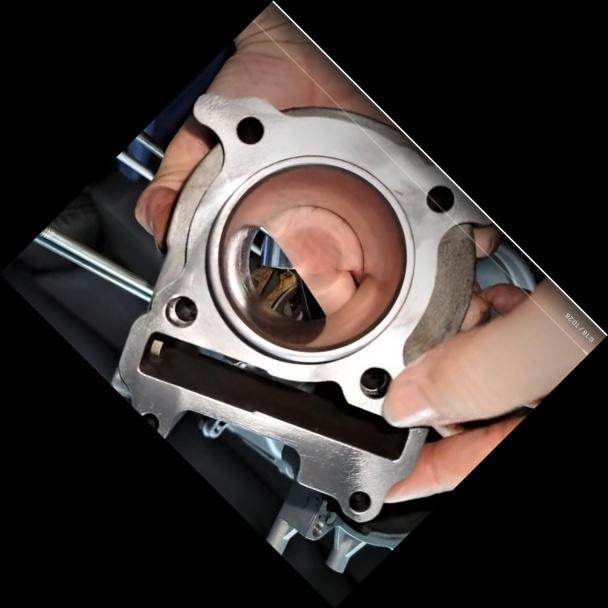hole: (350, 356, 401, 407), (156, 285, 206, 334), (226, 105, 272, 152), (417, 176, 461, 220)
